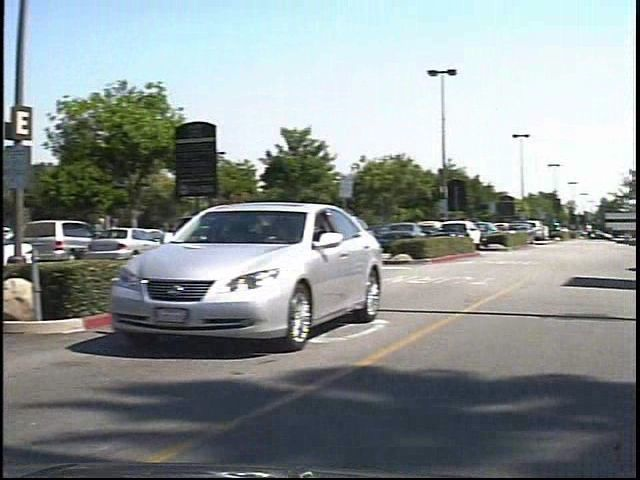person: (101, 212, 128, 262)
